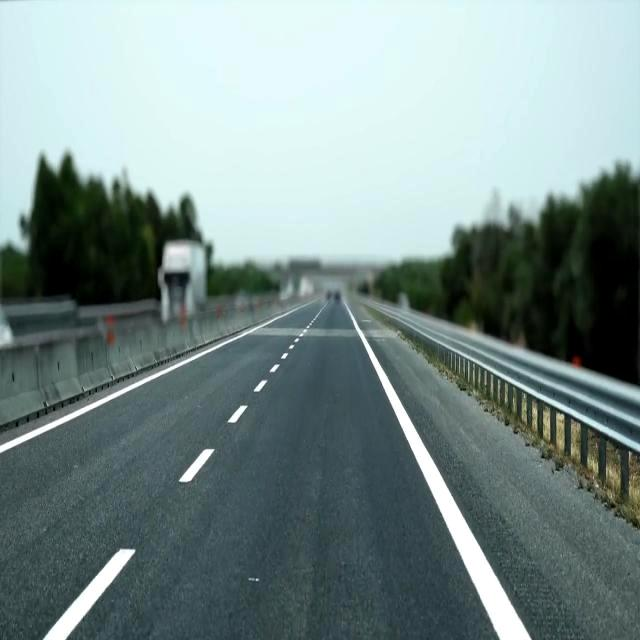lane: (361, 331, 531, 639), (42, 549, 134, 639), (181, 449, 212, 482), (229, 408, 244, 422)
road: (0, 301, 497, 639), (353, 304, 639, 639)
